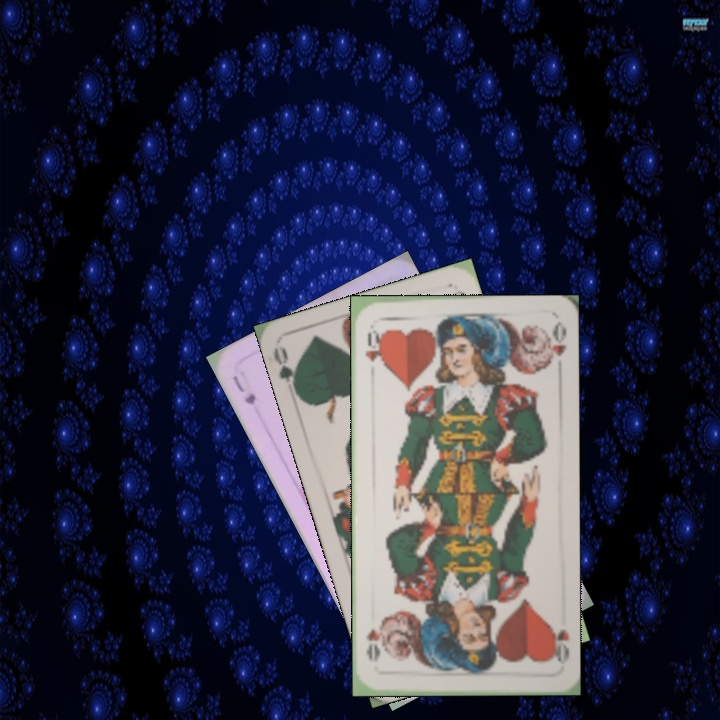GO: (269, 342, 302, 400)
HO: (545, 620, 572, 667), (361, 326, 385, 365)
SU: (228, 371, 259, 408)
